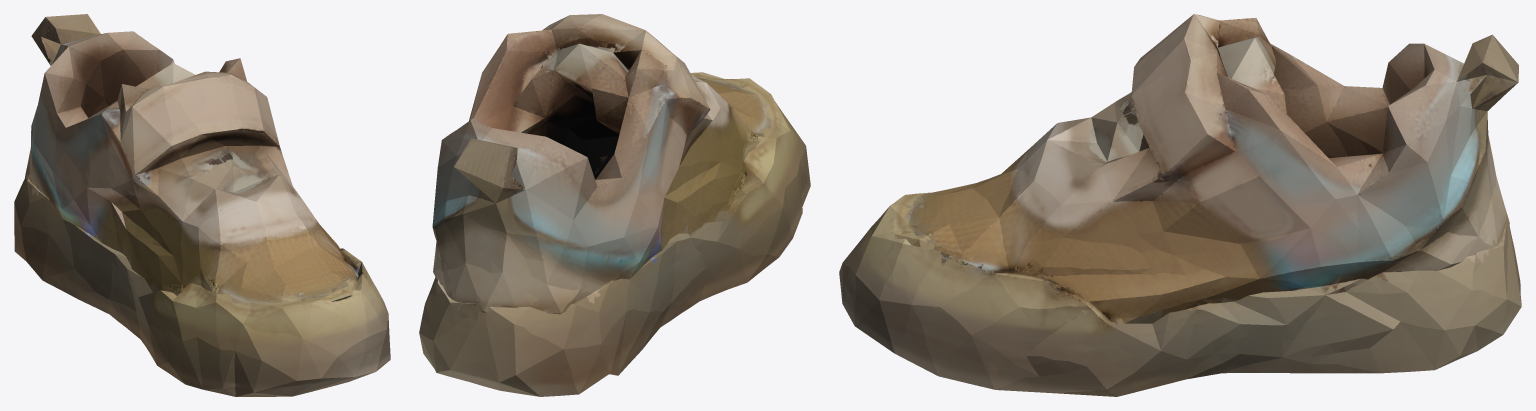
3 views of the same model, side by side, from view 1: azimuth 30°, elevation 25°; view 2: azimuth 150°, elevation 25°; view 3: azimuth 270°, elevation 25° (orthographic). The views are drawn at different scales.
Visible parts, largest first — view 1: visual_mesh; view 2: visual_mesh; view 3: visual_mesh.
Boxes of the visible parts, x1,y1,x2,y2 form: visual_mesh: (14,14,390,396); visual_mesh: (419,14,810,396); visual_mesh: (839,14,1521,396).
Bounding box in the file's own units: 0.1174 × 0.1431 × 0.2846.
1 material, 1 textured.
